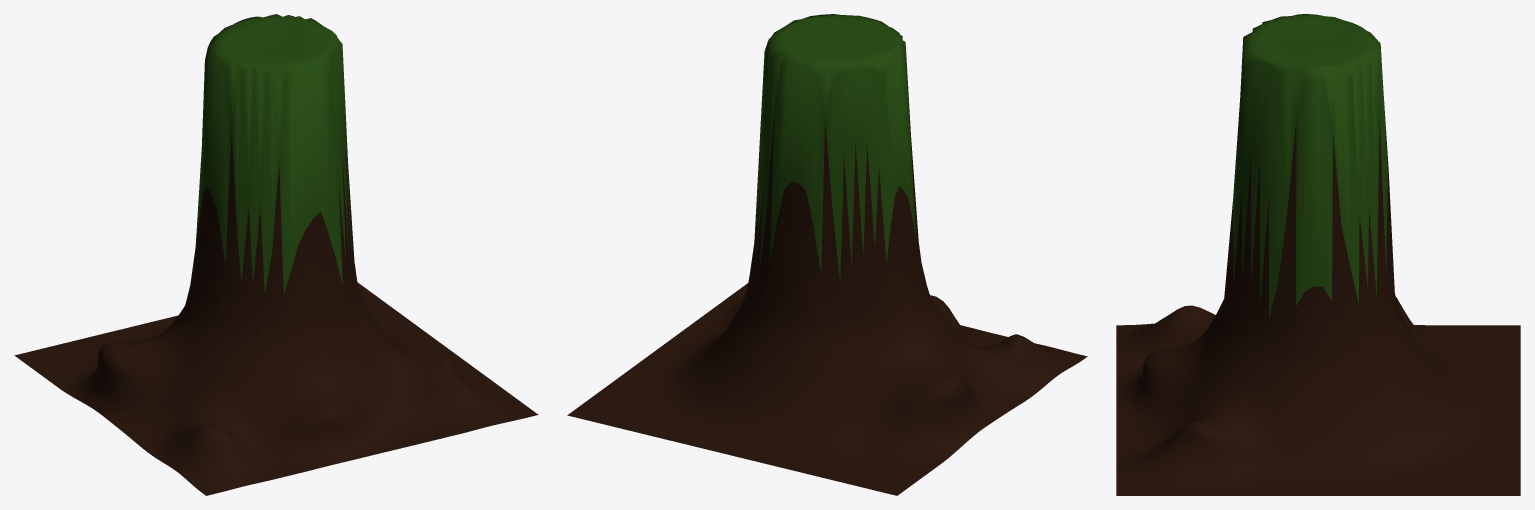
Rendered from Mountain06_Mapa08_DBZ.FBX.
The picture shows the model from 3 angles, left to right: view 1: azimuth 30°, elevation 25°; view 2: azimuth 150°, elevation 25°; view 3: azimuth 270°, elevation 25°; orthographic projection. The views are drawn at different scales.
Visible parts, largest first — view 1: Plane004; view 2: Plane004; view 3: Plane004.
Boxes of the visible parts, x1=… form: Plane004: x1=14, y1=14, x2=538, y2=495; Plane004: x1=567, y1=14, x2=1087, y2=495; Plane004: x1=1116, y1=14, x2=1520, y2=495.
Bounding box in the file's own units: 263 × 263 × 263.
